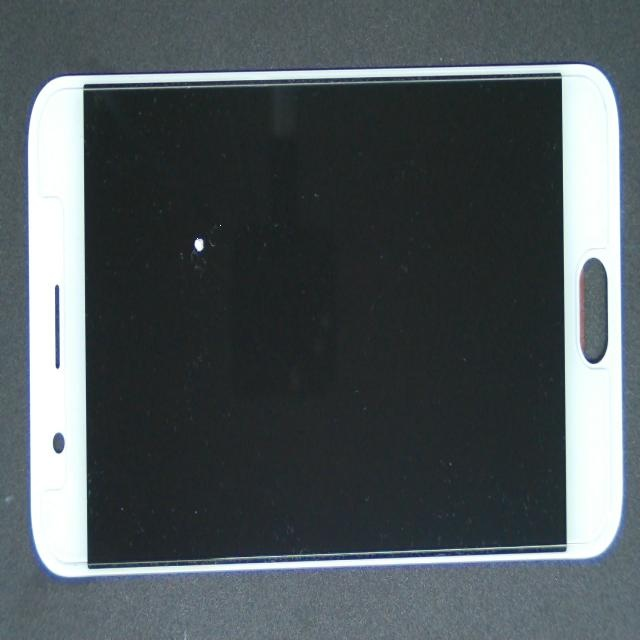stain: (89, 140, 269, 420)
